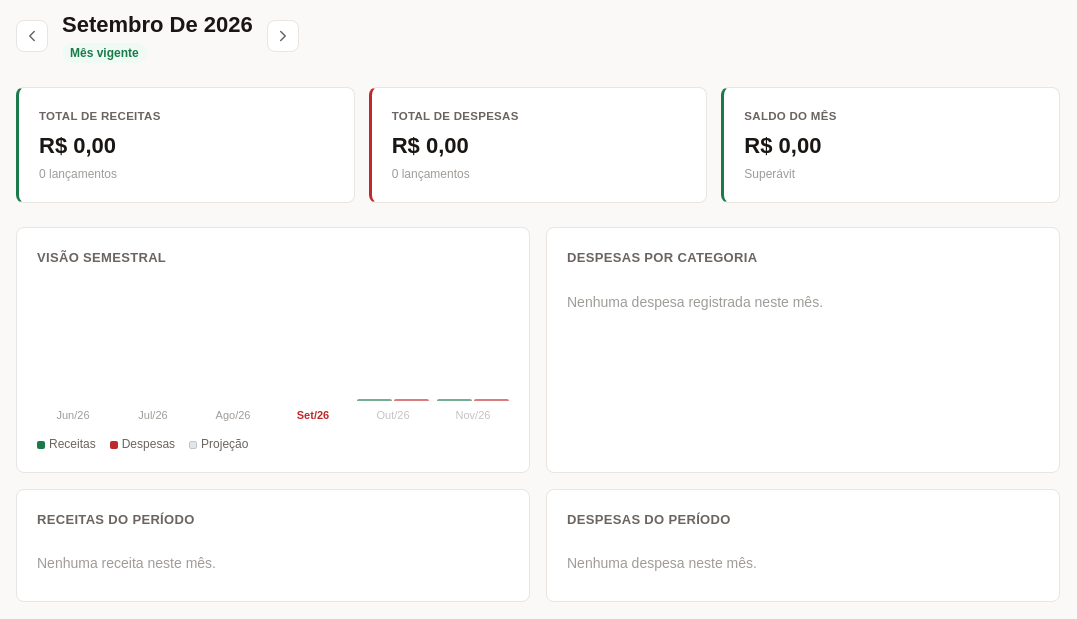
Test case: dashboard: KPIs › troca para "projetadas" em competência futura
The width and height of the screenshot is (1077, 619).
Click the button named "Próximo mês" at (283, 36), box [267,20,299,52]
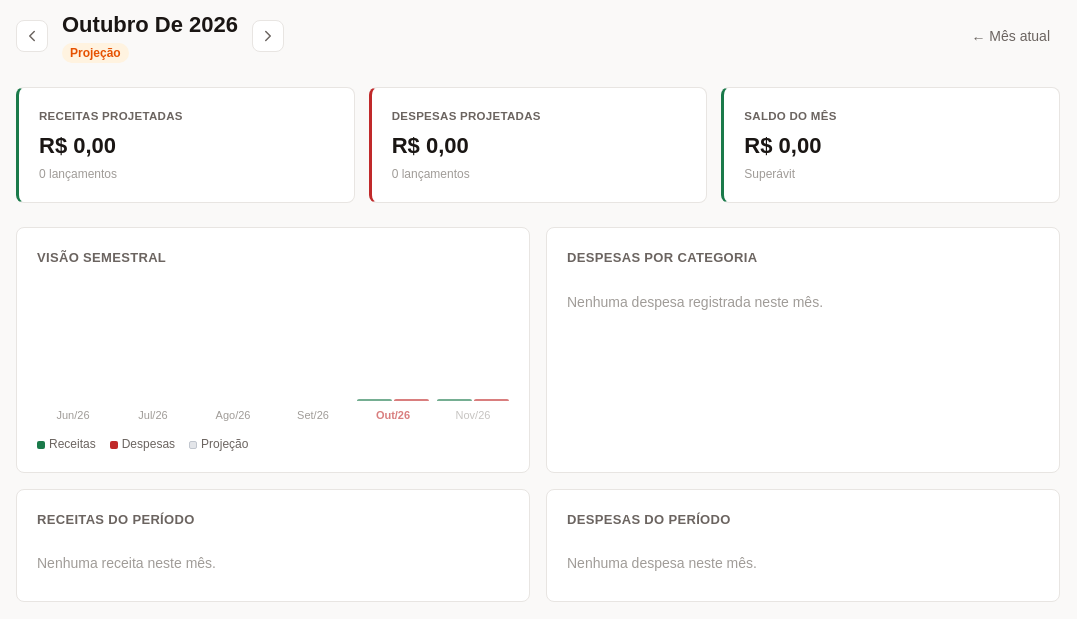
Check: the text "Projeção" is shown 2 times, box [62,43,129,63]; [189,436,248,452]
Check: the text "Receitas projetadas" is shown, box [39,110,183,122]
Check: the text "Despesas projetadas" is shown, box [392,110,541,122]
